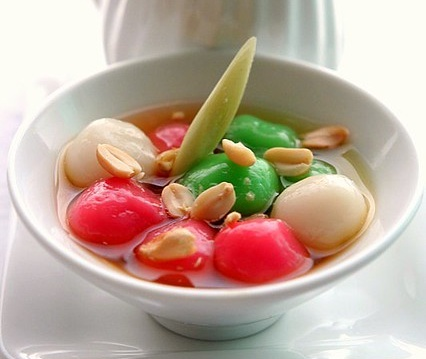ronde: (56, 98, 373, 287)
